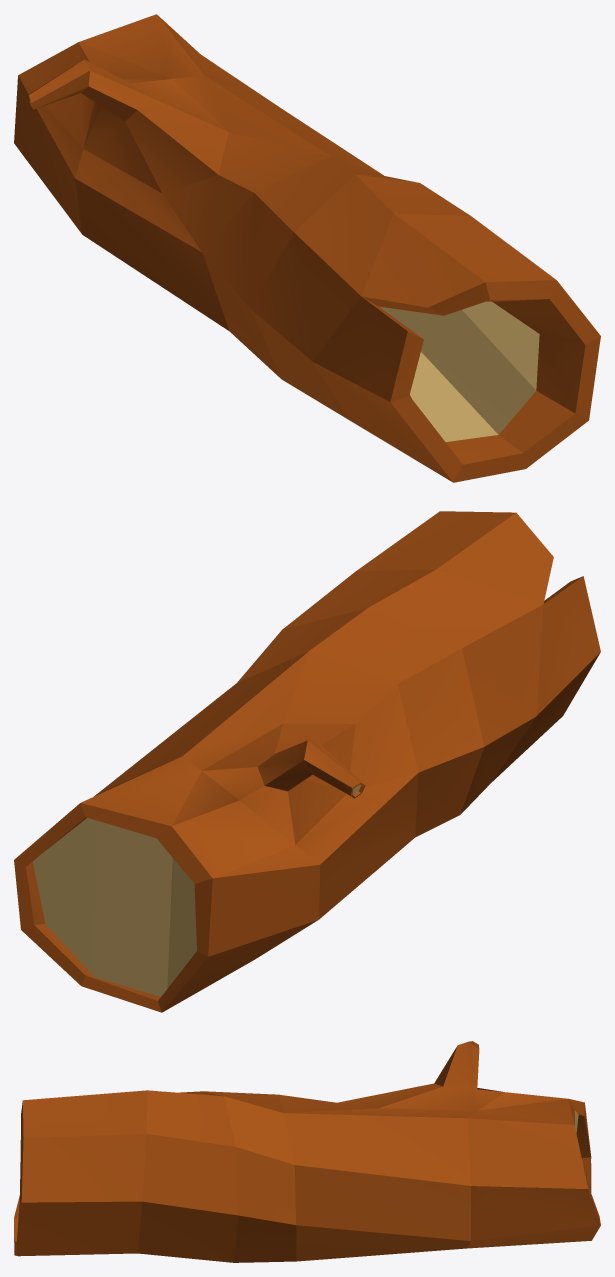
The model's file is Log_01.fbx.
3 views of the same model, one above another, from view 1: azimuth 30°, elevation 25°; view 2: azimuth 150°, elevation 25°; view 3: azimuth 270°, elevation 25° (orthographic). The views are drawn at different scales.
Visible parts, largest first — view 1: Log_01; view 2: Log_01; view 3: Log_01.
Boxes of the visible parts, left/top/right/bottom form: Log_01: left=14, top=14, right=600, bottom=482; Log_01: left=14, top=511, right=600, bottom=1012; Log_01: left=14, top=1041, right=600, bottom=1262.
Bounding box in the file's own units: 104 × 84.01 × 263.
